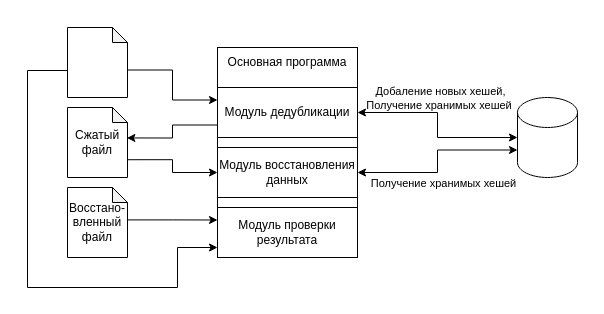
This 604x314 diagram has some shape labels left out. The centre of each missing label's shape, as x and y in pixels:
sqlite: the point at 547,137
Исходный файл: the point at 97,62
